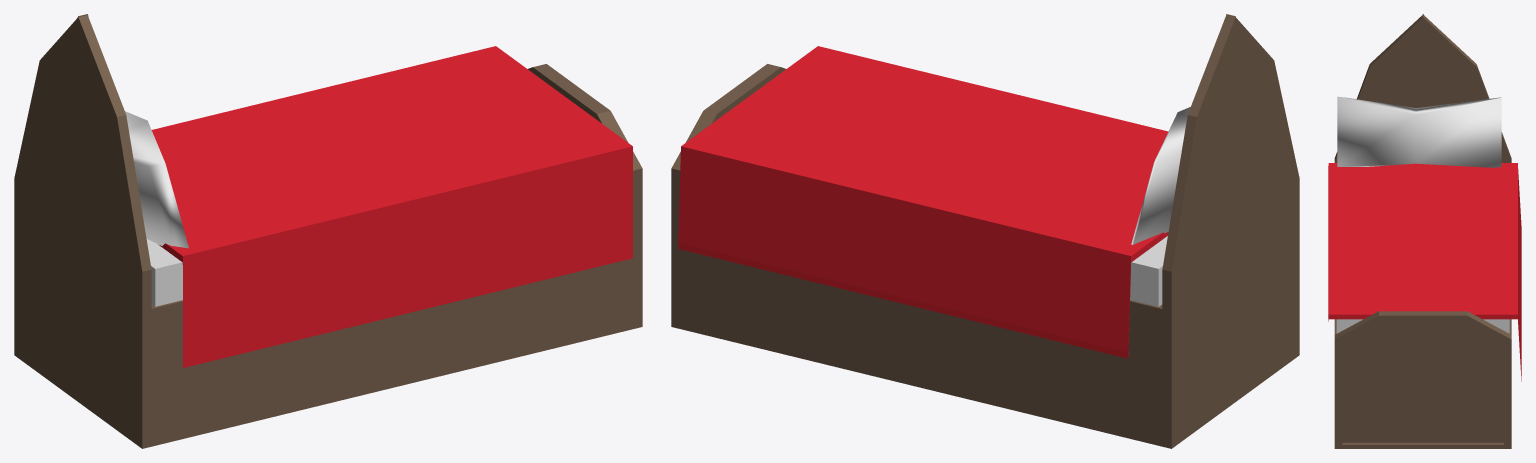
File: bed.fbx
The picture shows the model from 3 angles, left to right: view 1: azimuth 30°, elevation 25°; view 2: azimuth 150°, elevation 25°; view 3: azimuth 270°, elevation 25°; orthographic projection. The views are drawn at different scales.
Parts seen in each view (by area): view 1: Plane, Cube, Cube.001, Cube.002; view 2: Plane, Cube, Cube.001, Cube.002; view 3: Cube, Plane, Cube.001, Cube.002.
Boxes of the visible parts, box(x1,y1,x2,y2) form: Plane: box(151, 46, 632, 367); Cube: box(14, 14, 642, 448); Cube.001: box(125, 111, 188, 248); Cube.002: box(146, 239, 182, 306); Plane: box(678, 46, 1168, 358); Cube: box(671, 14, 1299, 448); Cube.001: box(1131, 107, 1190, 244); Cube.002: box(1130, 236, 1167, 306); Cube: box(1334, 14, 1511, 448); Plane: box(1328, 163, 1521, 381); Cube.001: box(1337, 96, 1501, 167); Cube.002: box(1336, 319, 1509, 333).
Size of the model in its own units: 461 by 340 by 223.
